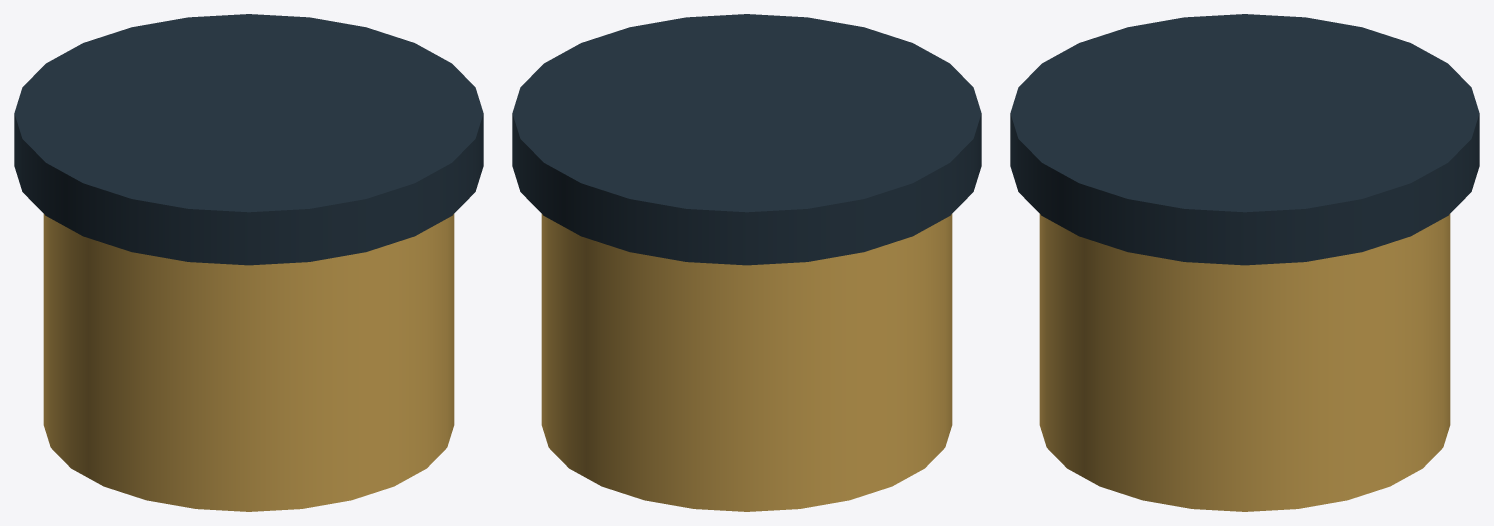
File: paper.glb
The picture shows the model from 3 angles, left to right: view 1: azimuth 30°, elevation 25°; view 2: azimuth 150°, elevation 25°; view 3: azimuth 270°, elevation 25°; orthographic projection.
Parts seen in each view (by area): view 1: MeteredAdhesive, GlueLid; view 2: MeteredAdhesive, GlueLid; view 3: MeteredAdhesive, GlueLid.
Part boxes in pixels (left/top/right/bottom): MeteredAdhesive: left=43, top=214, right=454, bottom=511; GlueLid: left=14, top=14, right=483, bottom=265; MeteredAdhesive: left=541, top=214, right=952, bottom=511; GlueLid: left=512, top=14, right=981, bottom=265; MeteredAdhesive: left=1039, top=214, right=1450, bottom=511; GlueLid: left=1010, top=14, right=1479, bottom=265.
Size of the model in its own units: 0.016 by 0.0117 by 0.016.
